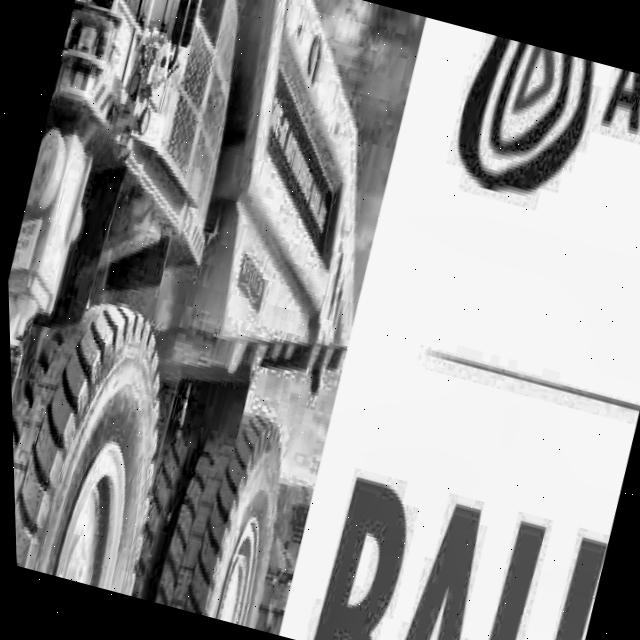dump_truck: (0, 0, 429, 632)
